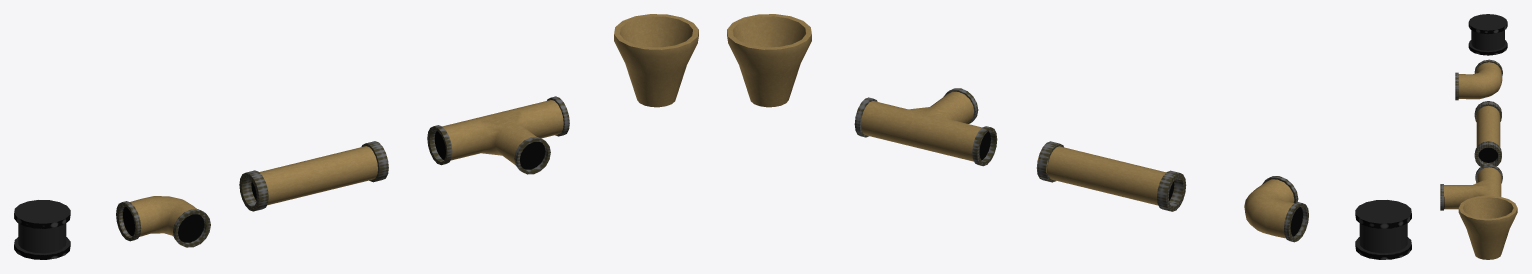
Rendered from BigPipes.fbx.
The picture shows the model from 3 angles, left to right: view 1: azimuth 30°, elevation 25°; view 2: azimuth 150°, elevation 25°; view 3: azimuth 270°, elevation 25°; orthographic projection. The views are drawn at different scales.
Parts seen in each view (by area): view 1: Pipe_3, SteamEmitter, Pipe_1, Pipe_2, EmitterConnecter; view 2: Pipe_3, SteamEmitter, Pipe_1, Pipe_2, EmitterConnecter; view 3: SteamEmitter, Pipe_1, Pipe_3, Pipe_2, EmitterConnecter.
Boxes of the visible parts, bbox=[...] form: Pipe_3: bbox=[427, 96, 569, 174]; SteamEmitter: bbox=[614, 14, 698, 107]; Pipe_1: bbox=[239, 141, 388, 211]; Pipe_2: bbox=[116, 196, 210, 247]; EmitterConnecter: bbox=[14, 200, 70, 259]; Pipe_3: bbox=[854, 88, 997, 166]; SteamEmitter: bbox=[727, 14, 811, 107]; Pipe_1: bbox=[1036, 141, 1186, 211]; Pipe_2: bbox=[1244, 176, 1308, 242]; EmitterConnecter: bbox=[1355, 200, 1411, 259]; SteamEmitter: bbox=[1458, 195, 1517, 259]; Pipe_1: bbox=[1474, 101, 1501, 166]; Pipe_3: bbox=[1440, 164, 1502, 210]; Pipe_2: bbox=[1455, 59, 1502, 100]; EmitterConnecter: bbox=[1468, 14, 1507, 55].
Size of the model in its own units: 12.5 by 1.4 by 1.8.
